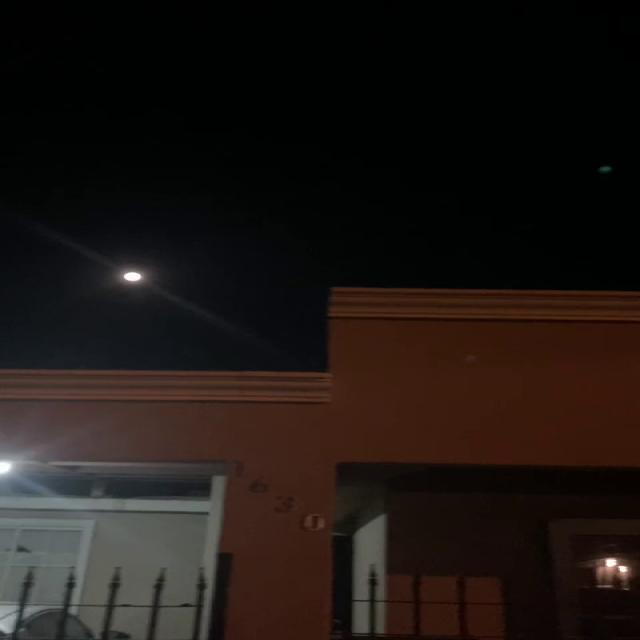moon: (108, 257, 158, 290)
